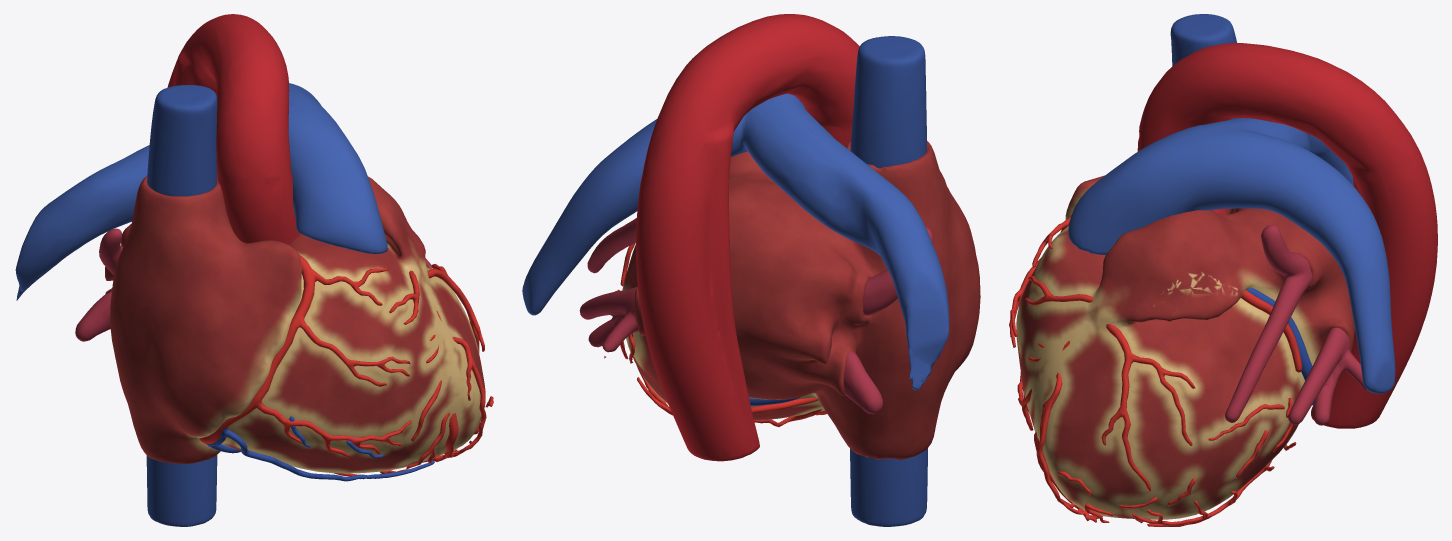
File: heart.glb
3 renders of one model, left to right at view 1: azimuth 30°, elevation 25°; view 2: azimuth 150°, elevation 25°; view 3: azimuth 270°, elevation 25°, orthographic. The views are drawn at different scales.
Parts seen in each view (by area): view 1: miocardio, tronco_pulmonar, aorta, venas_cavas, arterias_coronarias, venas_coronarias, venas_pulmonares; view 2: miocardio, aorta, tronco_pulmonar, venas_cavas, venas_pulmonares, arterias_coronarias; view 3: miocardio, aorta, tronco_pulmonar, arterias_coronarias, venas_pulmonares, venas_cavas, venas_coronarias.
Boxes of the visible parts, x1,y1,x2,y2 form: miocardio: [105, 174, 485, 473]; tronco_pulmonar: [15, 83, 387, 300]; aorta: [167, 14, 300, 244]; venas_cavas: [146, 84, 217, 526]; arterias_coronarias: [199, 255, 493, 476]; venas_coronarias: [206, 416, 434, 481]; venas_pulmonares: [75, 228, 431, 341]; miocardio: [622, 140, 980, 459]; aorta: [636, 14, 859, 461]; tronco_pulmonar: [522, 93, 949, 390]; venas_cavas: [850, 36, 927, 526]; venas_pulmonares: [579, 218, 932, 414]; arterias_coronarias: [615, 243, 827, 426]; miocardio: [1016, 175, 1355, 519]; aorta: [1137, 43, 1437, 428]; tronco_pulmonar: [1068, 118, 1395, 393]; arterias_coronarias: [1009, 215, 1302, 526]; venas_pulmonares: [1225, 225, 1366, 425]; venas_cavas: [1170, 14, 1238, 119]; venas_coronarias: [1246, 288, 1314, 405].
Size of the model in its own units: 0.1373 by 0.1553 by 0.1317.
7 materials, 1 textured.
